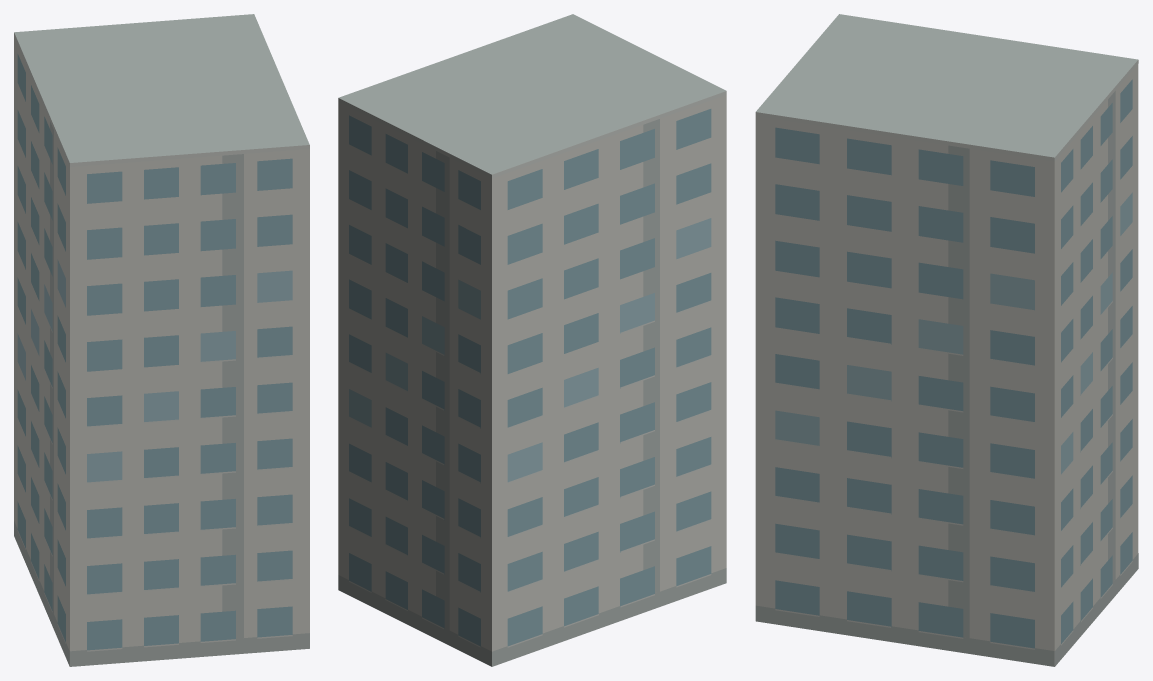
File: residential-92e74a80-becc-4a06-9901-3f1acec9e807.glb
3 views of the same model, side by side, from view 1: azimuth 30°, elevation 25°; view 2: azimuth 150°, elevation 25°; view 3: azimuth 270°, elevation 25° (orthographic). The views are drawn at different scales.
Visible parts, largest first — view 1: residential-92e74a80-becc-4a06-9901-3f1acec9e807.tmp; view 2: residential-92e74a80-becc-4a06-9901-3f1acec9e807.tmp; view 3: residential-92e74a80-becc-4a06-9901-3f1acec9e807.tmp.
Part boxes in pixels (x1,y1,x2,y2): residential-92e74a80-becc-4a06-9901-3f1acec9e807.tmp: (14, 14, 309, 666); residential-92e74a80-becc-4a06-9901-3f1acec9e807.tmp: (338, 14, 726, 666); residential-92e74a80-becc-4a06-9901-3f1acec9e807.tmp: (755, 14, 1138, 666).
Bounding box in the file's own units: 18.15 × 30 × 20.45.
